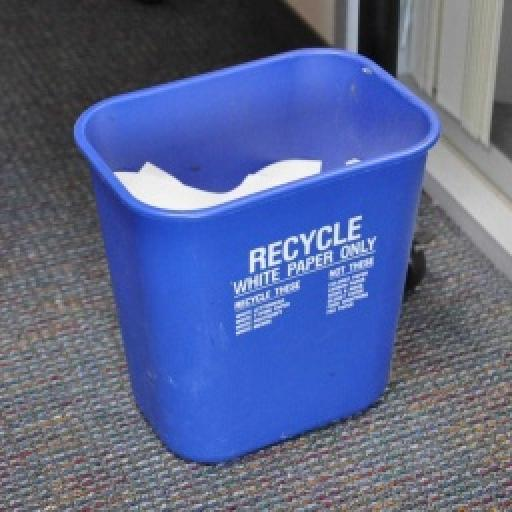trash-can: (72, 22, 447, 462)
